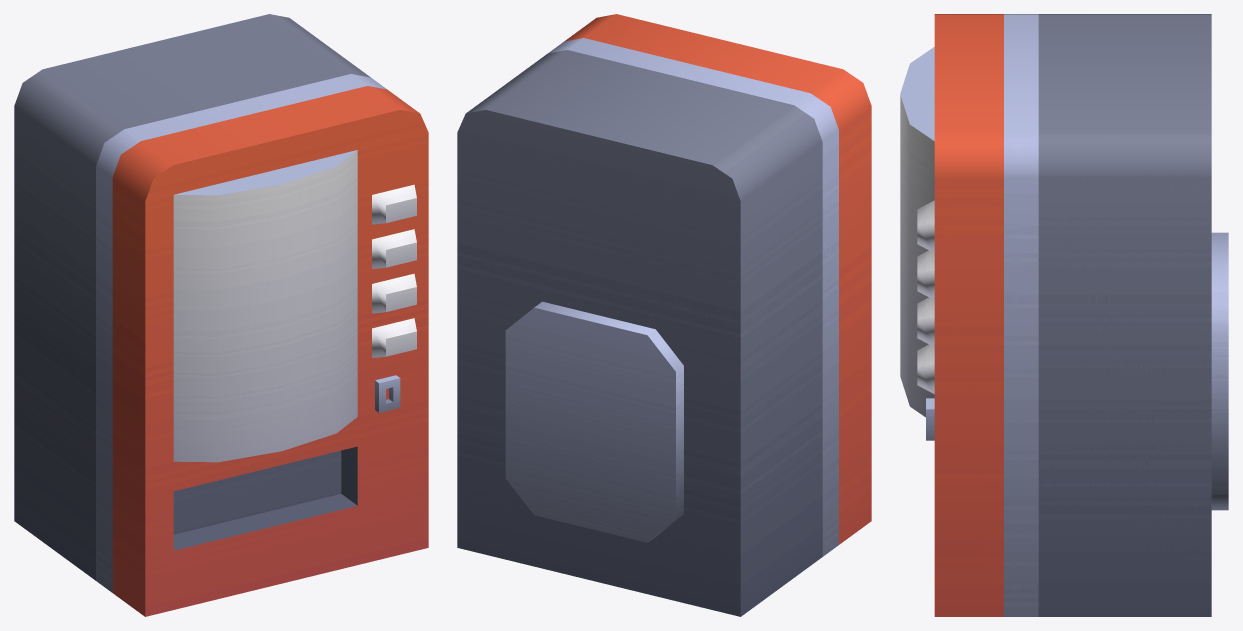
File: vending-machine.glb
3 views of the same model, side by side, from view 1: azimuth 30°, elevation 25°; view 2: azimuth 150°, elevation 25°; view 3: azimuth 270°, elevation 25° (orthographic). The views are drawn at different scales.
Parts seen in each view (by area): view 1: vending-machine; view 2: vending-machine; view 3: vending-machine.
Boxes of the visible parts, bbox=[...] form: vending-machine: bbox=[14, 14, 428, 616]; vending-machine: bbox=[457, 14, 871, 616]; vending-machine: bbox=[900, 14, 1228, 616].
Bounding box in the file's own units: 1.5 × 2.25 × 1.42.
1 material, 1 textured.
